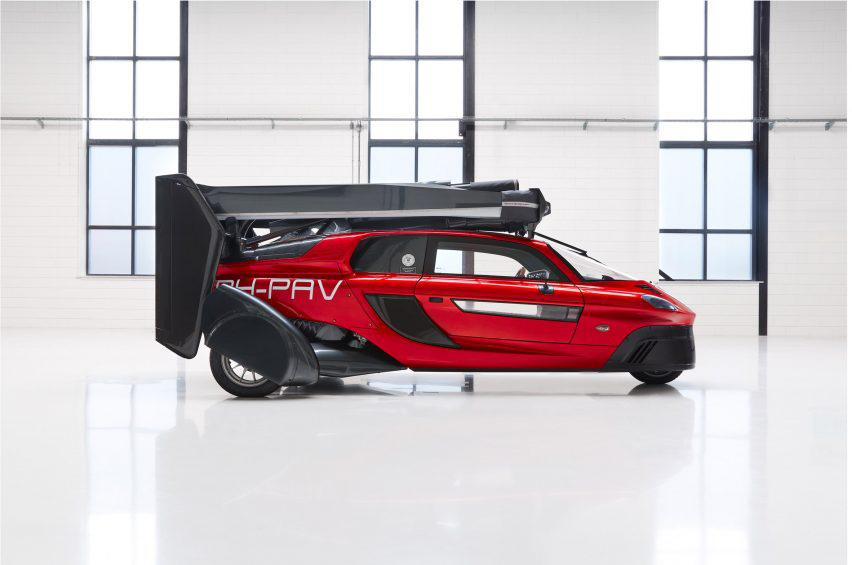car: (133, 165, 723, 427)
